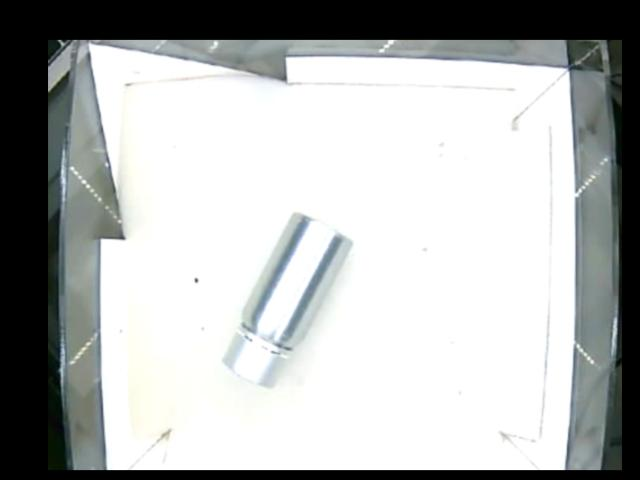Bottle: (219, 211, 352, 384)
